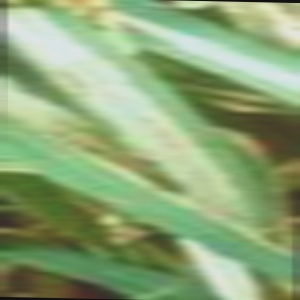Leaf_Blast: (1, 10, 225, 179)
